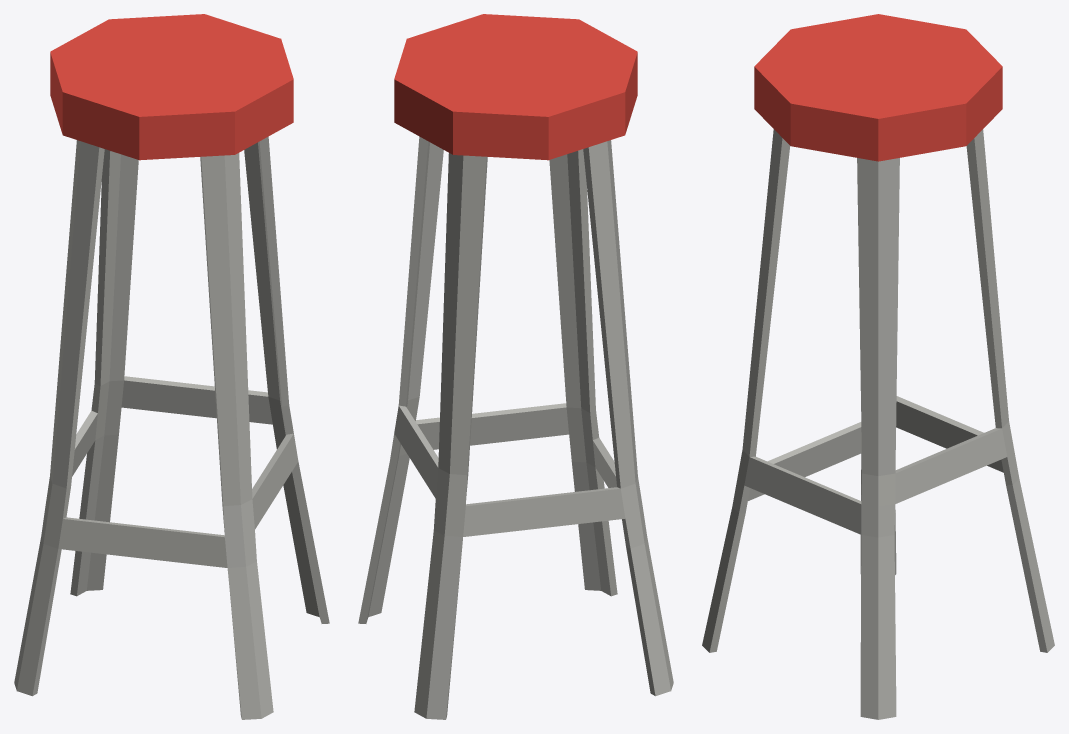
Rendered from Bar Stool.fbx.
3 views of the same model, side by side, from view 1: azimuth 30°, elevation 25°; view 2: azimuth 150°, elevation 25°; view 3: azimuth 270°, elevation 25° (orthographic).
Parts seen in each view (by area): view 1: Bar Stool; view 2: Bar Stool; view 3: Bar Stool.
Part boxes in pixels (bbox=[...]): Bar Stool: bbox=[14, 14, 329, 719]; Bar Stool: bbox=[358, 14, 673, 719]; Bar Stool: bbox=[702, 14, 1054, 719].
Bounding box in the file's own units: 53.43 × 96.69 × 53.43.
